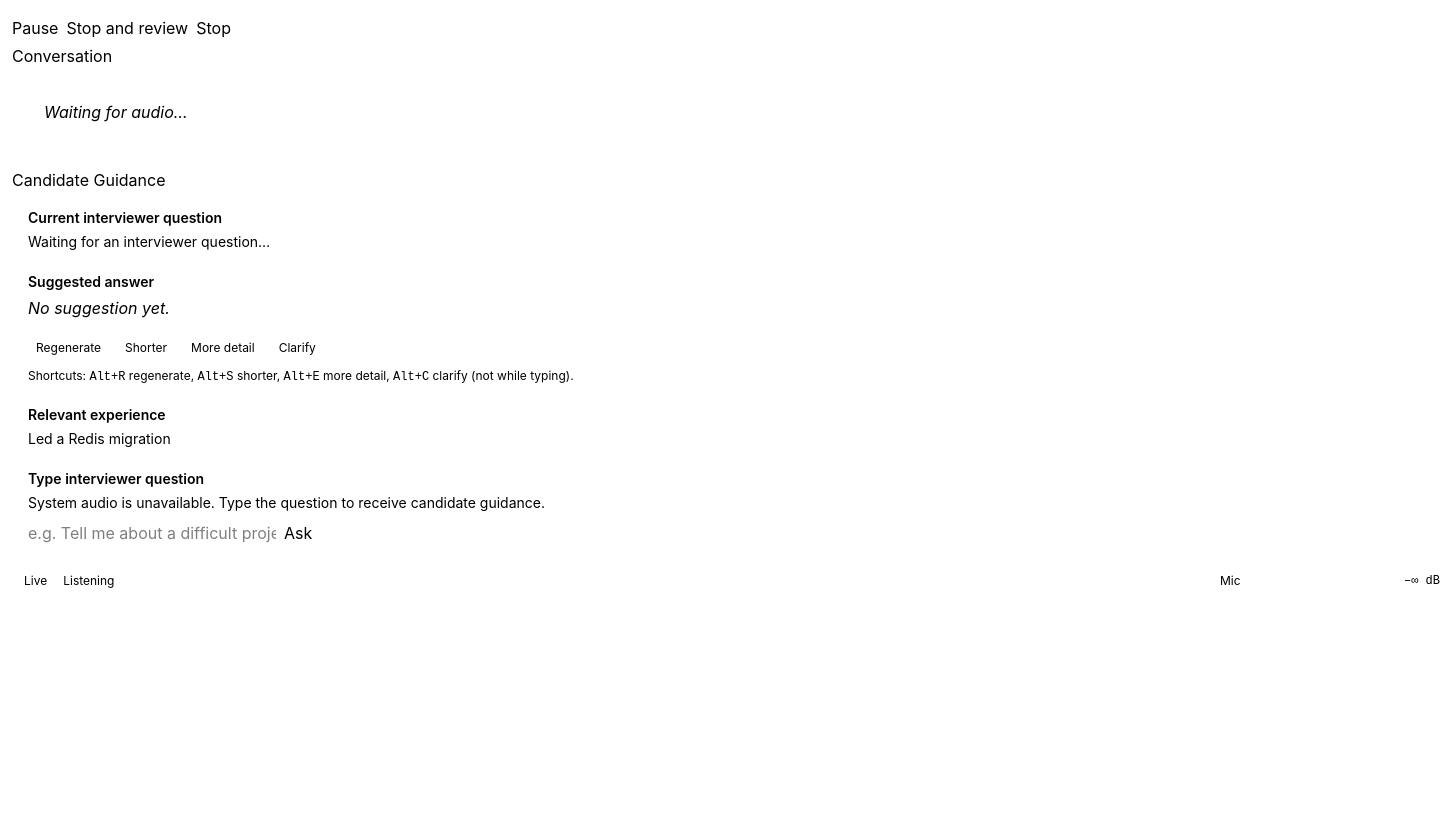
Test case: reports an active interview to the main process while capturing, and clears it on stop
This screenshot has width=1452, height=822.
Click the button "Stop".
click(214, 28)  # box x1=196 y1=12 x2=231 y2=44
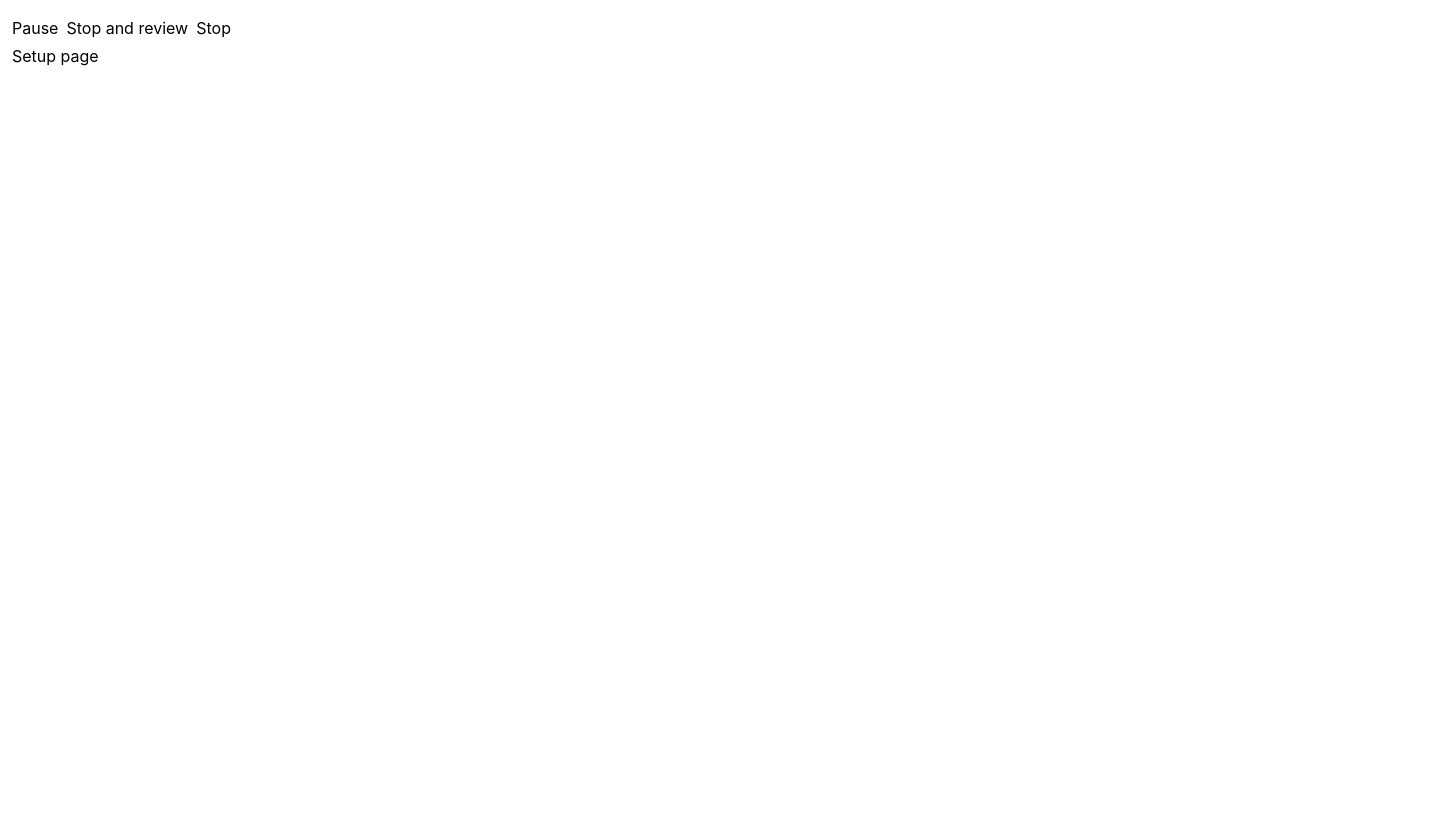
expect the text "Setup page" is shown: met, box x1=12 y1=46 x2=99 y2=66
